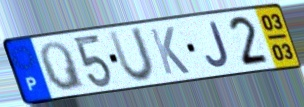2: (228, 15, 272, 68)
5: (70, 33, 114, 89)
J: (204, 20, 231, 69)
K: (147, 25, 193, 77)
Q: (39, 40, 88, 93)
U: (106, 25, 158, 84)
